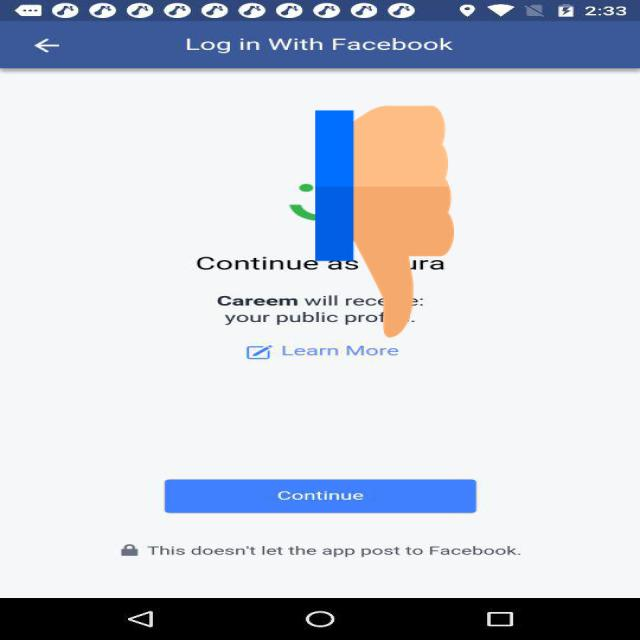obstruction: (315, 100, 454, 343)
